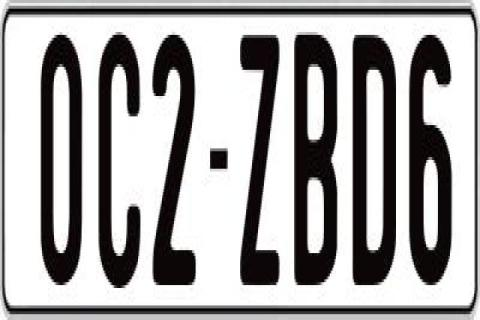0: (410, 29, 452, 297), (148, 32, 192, 282), (40, 35, 82, 291)
B: (294, 26, 338, 294)
C: (98, 35, 148, 299)
D: (354, 29, 398, 282)
Z: (238, 26, 286, 288)
